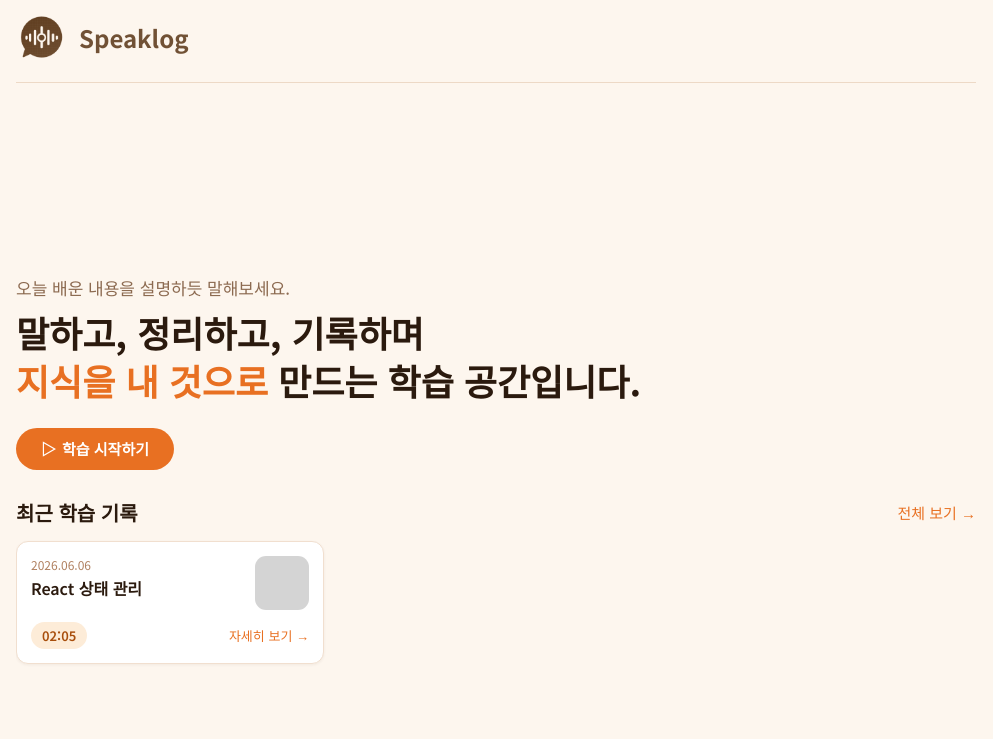
Test: opens a saved record detail view
Click the button "2026.06.06 React 상태 관리 02:05 자세히 보기 →" at (61, 565), box [16, 542, 324, 664]
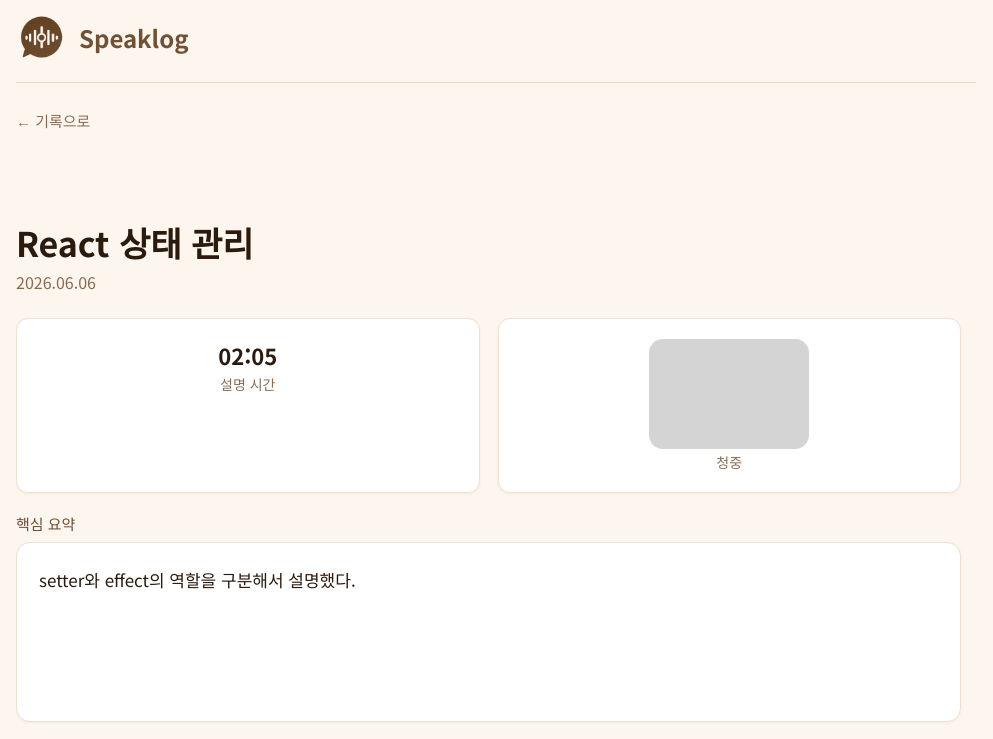
Expected: the heading "React 상태 관리" is shown, [16, 218, 254, 266]
Expected: the text "setter와 effect의 역할을 구분해서 설명했다." is shown, [16, 542, 961, 722]
Expected: the button "← 기록으로" is shown, [16, 110, 90, 131]
